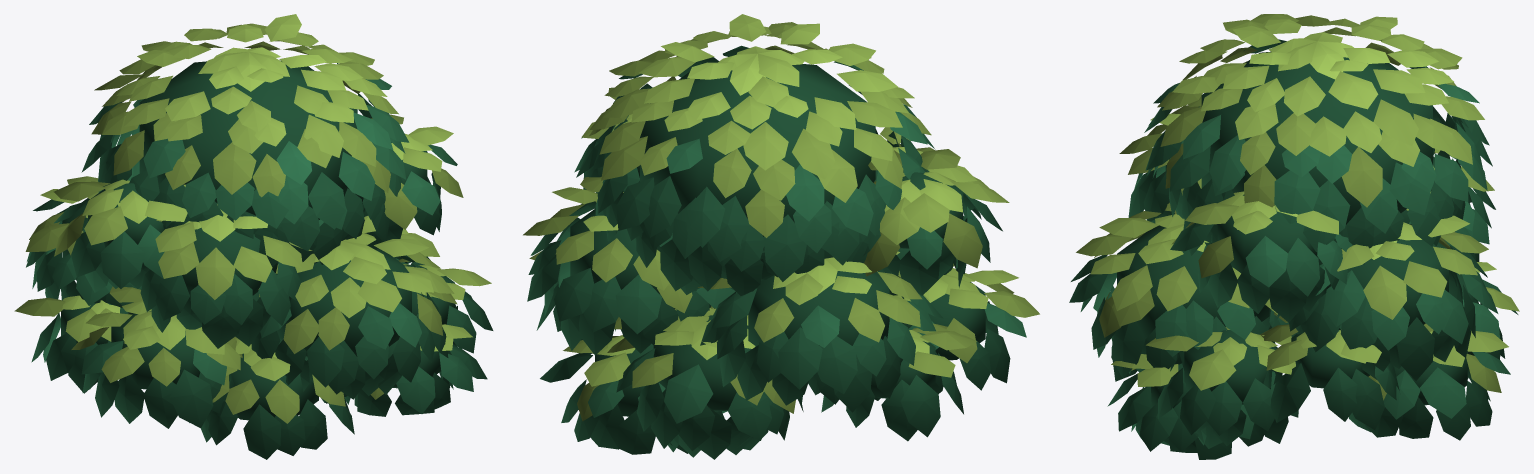
File: bush_plain.glb
3 views of the same model, side by side, from view 1: azimuth 30°, elevation 25°; view 2: azimuth 150°, elevation 25°; view 3: azimuth 270°, elevation 25° (orthographic). The views are drawn at different scales.
Visible parts, largest first — view 1: bush_plain; view 2: bush_plain; view 3: bush_plain.
Part boxes in pixels (bbox=[...]): bush_plain: bbox=[14, 14, 493, 459]; bush_plain: bbox=[523, 14, 1039, 459]; bush_plain: bbox=[1069, 14, 1519, 459].
Bounding box in the file's own units: 1.4 × 1.1 × 1.3.
